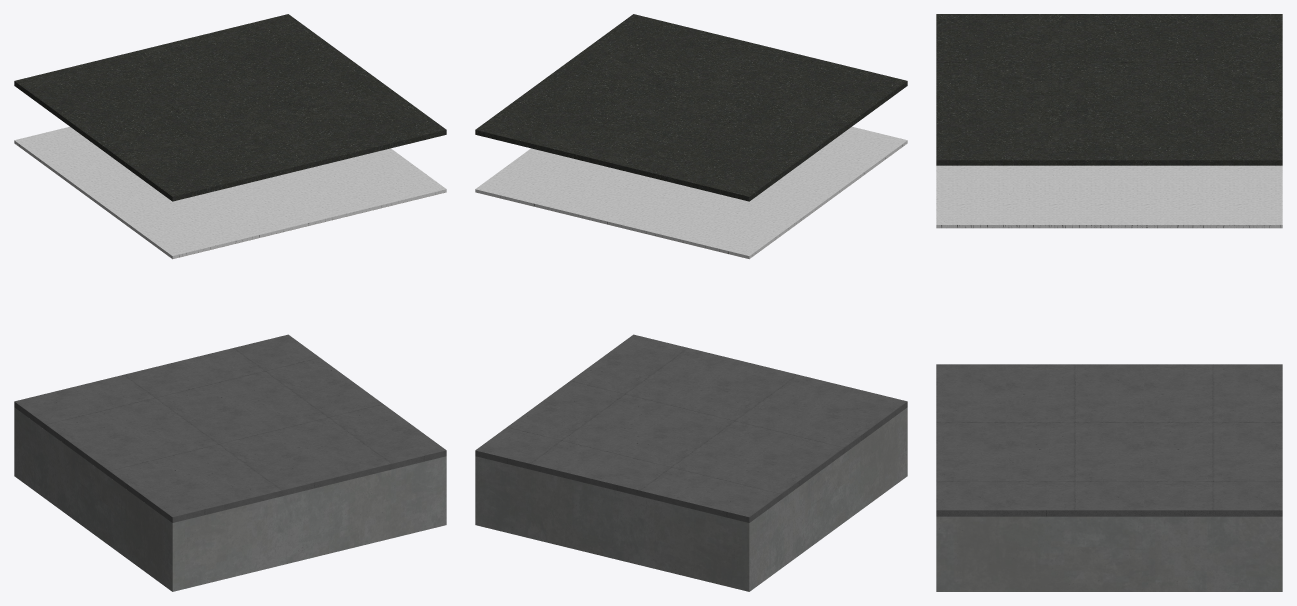
Rendered from shelter_c_warehouse_bay.glb.
3 views of the same model, side by side, from view 1: azimuth 30°, elevation 25°; view 2: azimuth 150°, elevation 25°; view 3: azimuth 270°, elevation 25° (orthographic). The views are drawn at different scales.
Visible parts, largest first — view 1: shelter_c_warehouse_bay; view 2: shelter_c_warehouse_bay; view 3: shelter_c_warehouse_bay.
Boxes of the visible parts, box(x1,y1,x2,y2) form: shelter_c_warehouse_bay: box(14, 14, 446, 591); shelter_c_warehouse_bay: box(475, 14, 907, 591); shelter_c_warehouse_bay: box(936, 14, 1282, 591).
Size of the model in its own units: 5 by 6.88 by 5.
7 materials, 7 textured.
